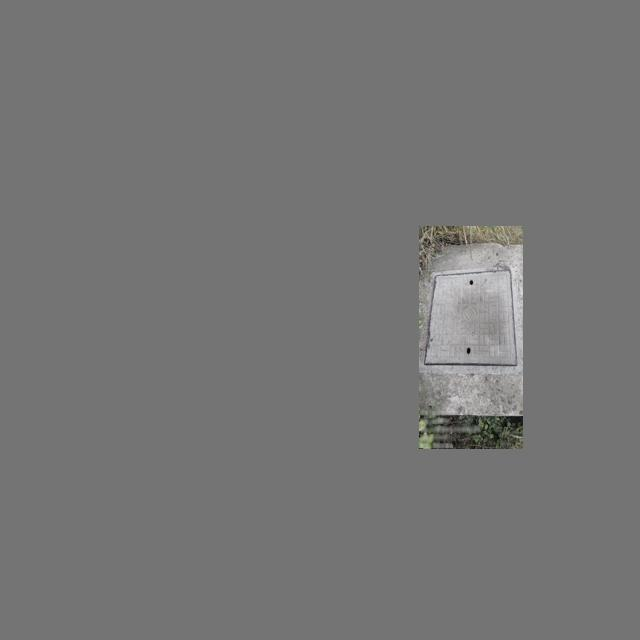good: (419, 266, 523, 375)
